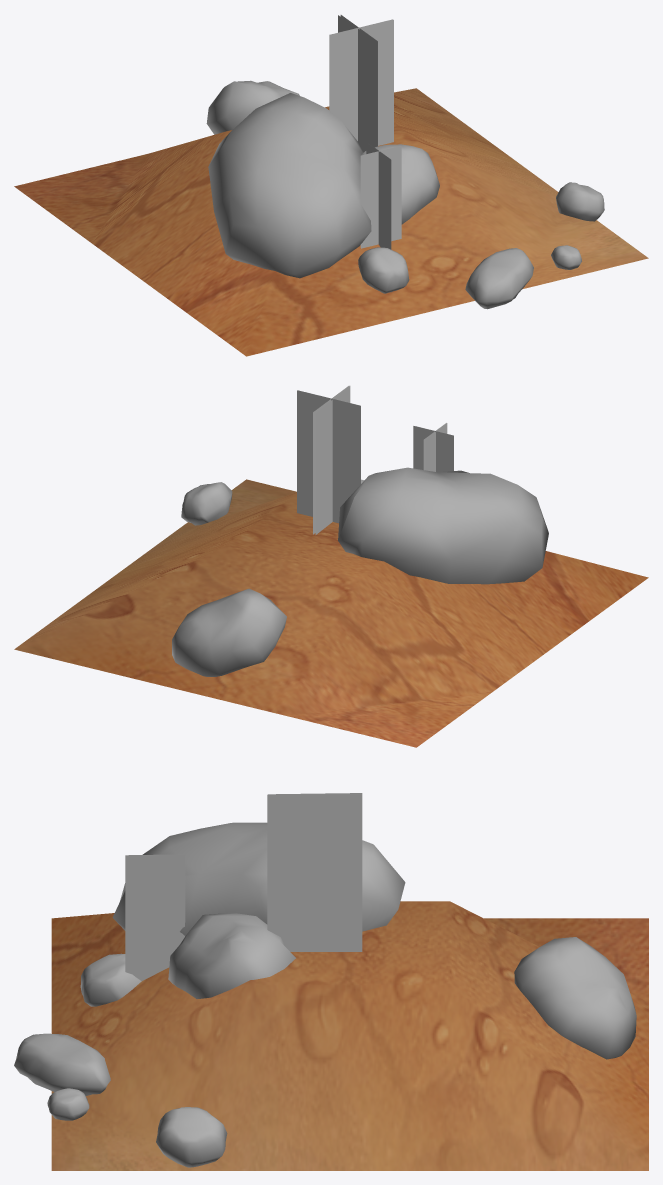
Rendered from SM_RockBoundary_v2.fbx.
The picture shows the model from 3 angles, top to bottom: view 1: azimuth 30°, elevation 25°; view 2: azimuth 150°, elevation 25°; view 3: azimuth 270°, elevation 25°; orthographic projection. The views are drawn at different scales.
Visible parts, largest first — view 1: Rock_Boundary_v2; view 2: Rock_Boundary_v2; view 3: Rock_Boundary_v2.
Part boxes in pixels (x1,y1,x2,y2): Rock_Boundary_v2: [14, 15, 648, 356]; Rock_Boundary_v2: [14, 385, 648, 747]; Rock_Boundary_v2: [14, 793, 648, 1170].
Size of the model in its own units: 181 by 86.16 by 189.
